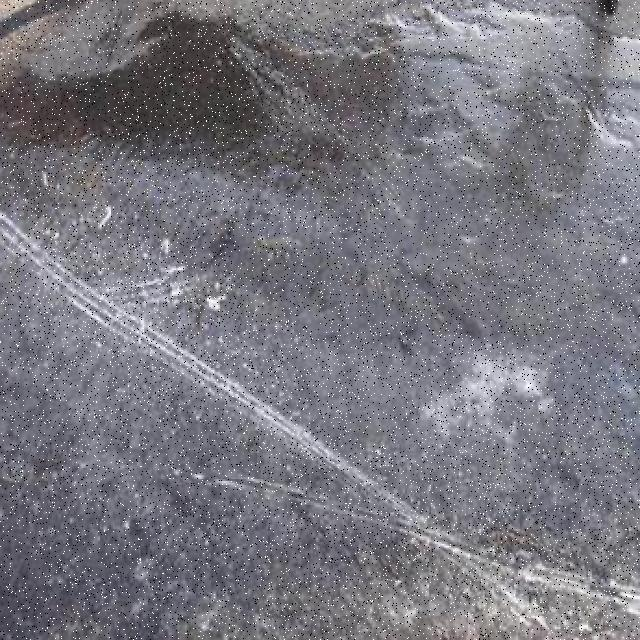ice-road: (0, 6, 640, 589), (0, 242, 640, 640)
